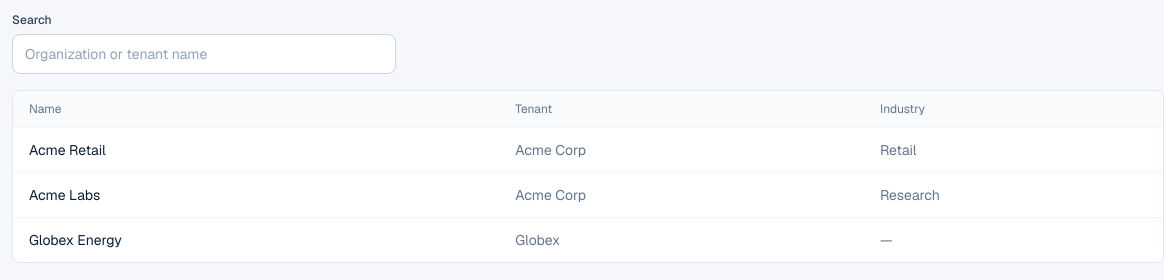
Test: OrganizationsTable › filters by organization name, case-insensitively
This screenshot has width=1164, height=280.
Type "labs" into the search field labelled "Search" at (204,54), box [13,35,395,73]
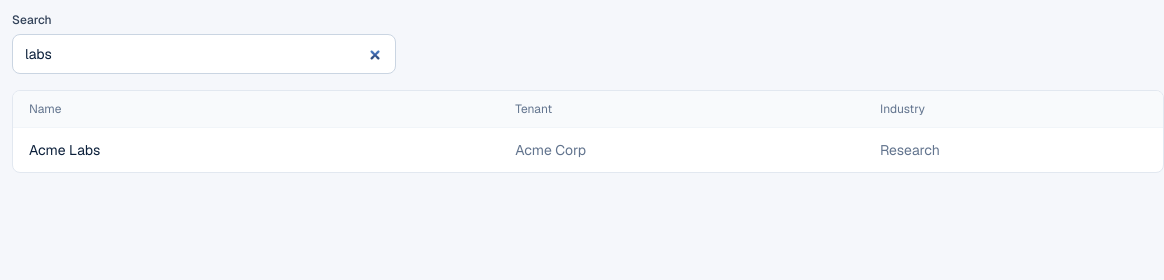
Check: the link "Acme Labs" is shown, box [29,141,100,159]
Check: the link "Acme Retail" is gone
